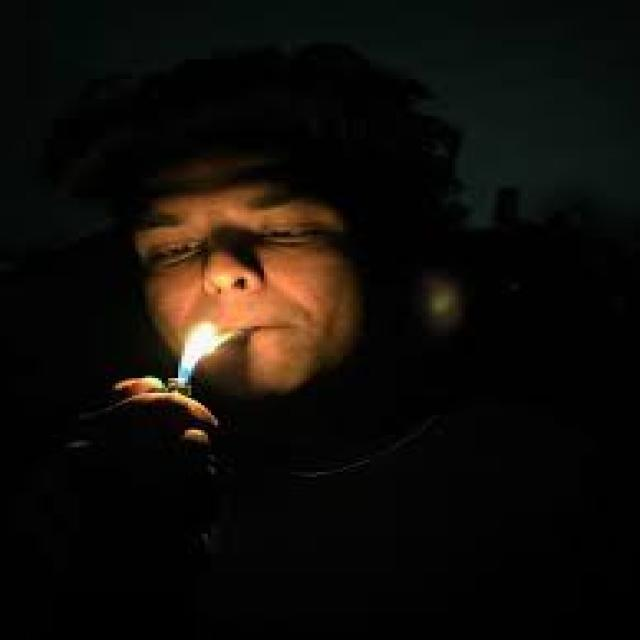fire: (179, 321, 233, 393)
